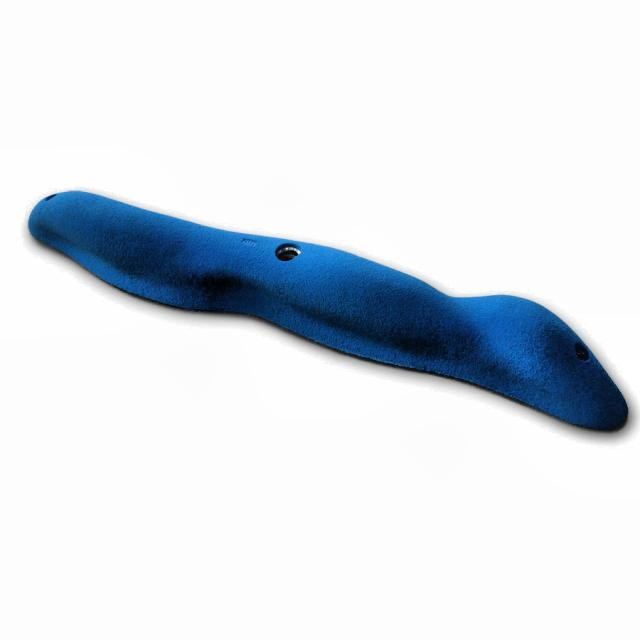Hold: (9, 152, 639, 451)
